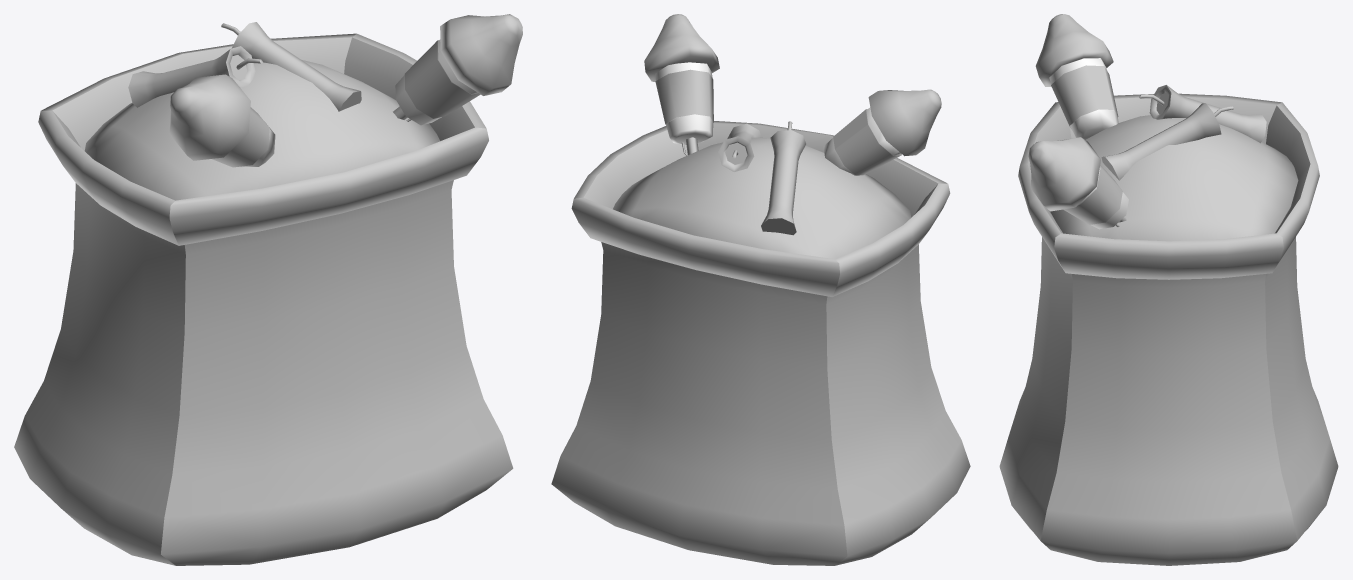
Rendered from rongqi.fbx.
3 views of the same model, side by side, from view 1: azimuth 30°, elevation 25°; view 2: azimuth 150°, elevation 25°; view 3: azimuth 270°, elevation 25° (orthographic). The views are drawn at different scales.
Parts seen in each view (by area): view 1: rongqi; view 2: rongqi; view 3: rongqi.
Part boxes in pixels (x1,y1,x2,y2): rongqi: (14,14,522,565); rongqi: (551,14,970,565); rongqi: (999,14,1338,565).
Bounding box in the file's own units: 106 × 123 × 87.91.
